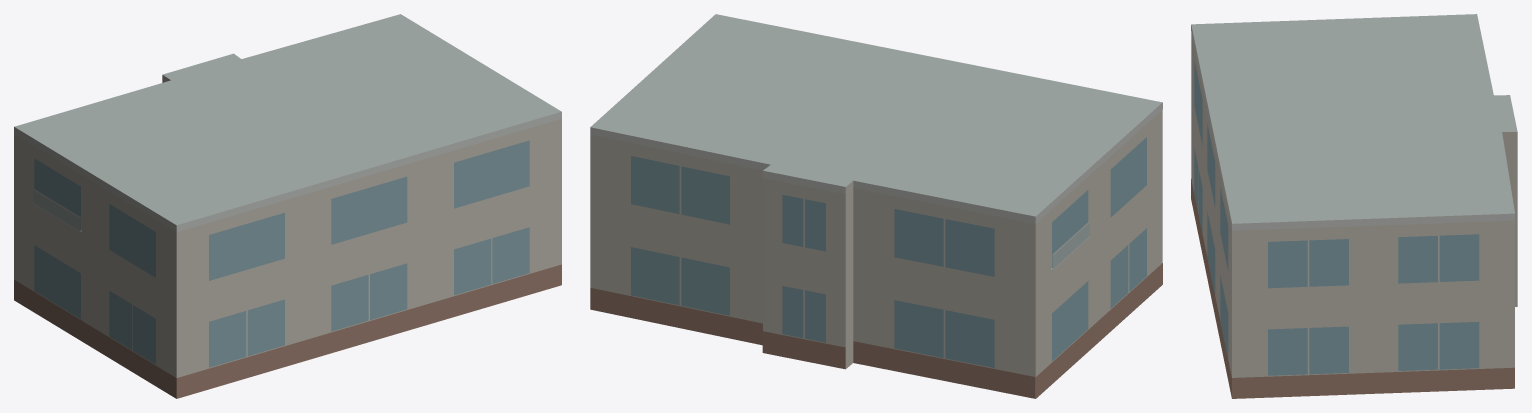
The model's file is survey-upis-32625760.glb.
3 renders of one model, left to right at view 1: azimuth 30°, elevation 25°; view 2: azimuth 150°, elevation 25°; view 3: azimuth 270°, elevation 25°, orthographic. The views are drawn at different scales.
Parts seen in each view (by area): view 1: survey-upis-32625760.tmp; view 2: survey-upis-32625760.tmp; view 3: survey-upis-32625760.tmp.
Boxes of the visible parts, x1,y1,x2,y2 form: survey-upis-32625760.tmp: [14, 14, 561, 398]; survey-upis-32625760.tmp: [590, 14, 1162, 398]; survey-upis-32625760.tmp: [1191, 14, 1517, 398].
Bounding box in the file's own units: 15.69 × 6.1 × 10.32.
